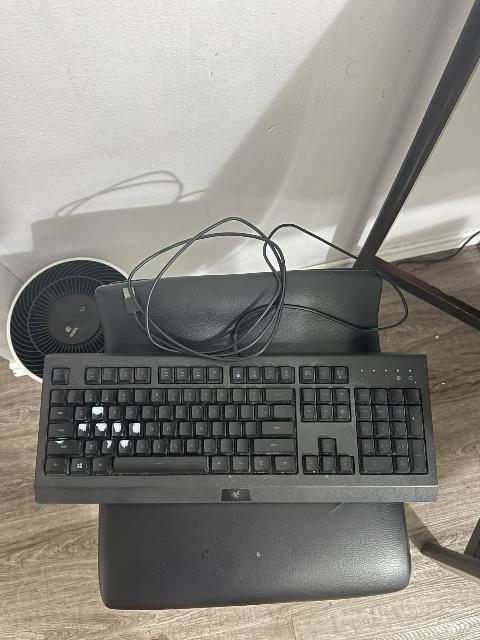ahkeyboard: (28, 339, 446, 513)
